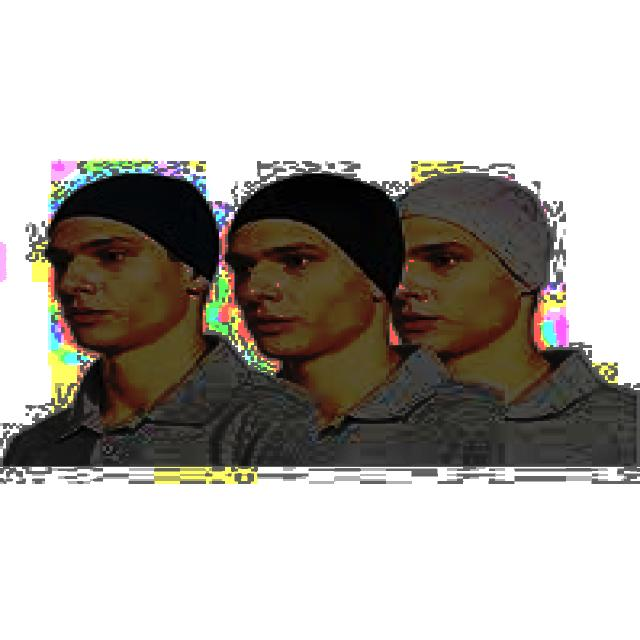TOPI: (225, 164, 405, 307), (376, 161, 556, 295), (39, 164, 222, 282)
